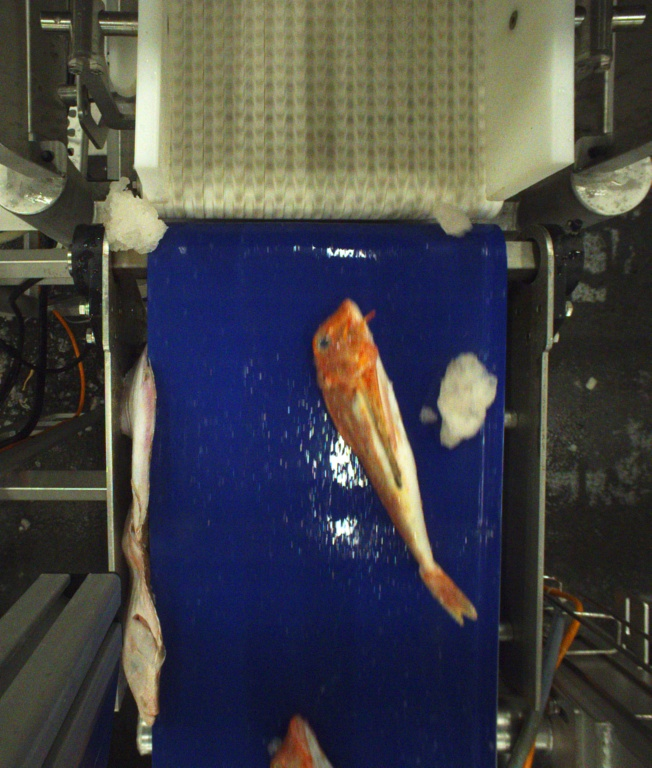GUU: (310, 294, 478, 625)
